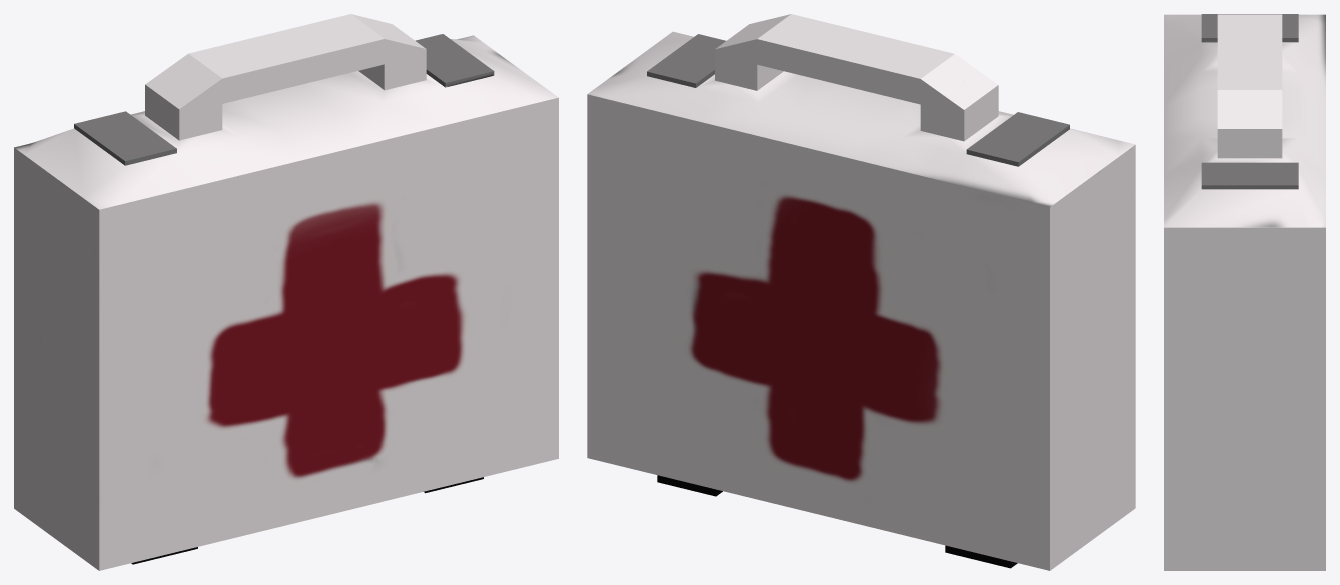
Rendered from Health_Pack 1.fbx.
3 renders of one model, left to right at view 1: azimuth 30°, elevation 25°; view 2: azimuth 150°, elevation 25°; view 3: azimuth 270°, elevation 25°, orthographic. The views are drawn at different scales.
Parts seen in each view (by area): view 1: pasted__pCube2; view 2: pasted__pCube2; view 3: pasted__pCube2.
Boxes of the visible parts, x1,y1,x2,y2 form: pasted__pCube2: (14, 14, 558, 570); pasted__pCube2: (587, 14, 1135, 570); pasted__pCube2: (1164, 14, 1325, 570).
Size of the model in its own units: 86.05 by 81.78 by 27.59.
1 material, 1 textured.
